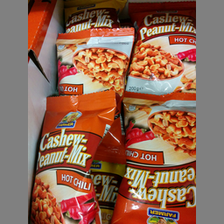nuts: (29, 89, 115, 224), (119, 97, 196, 224), (125, 1, 196, 98), (54, 28, 136, 94)
